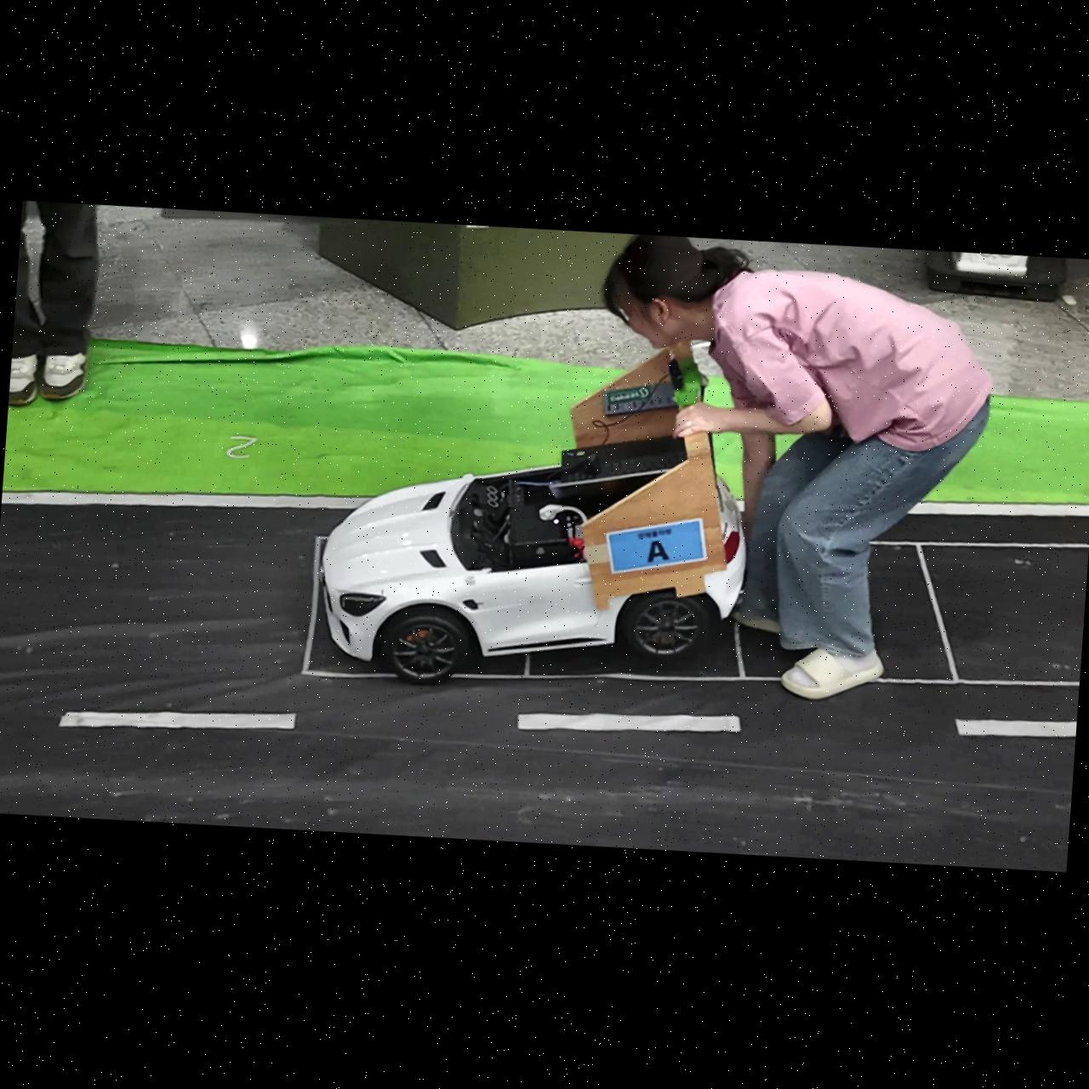broken_line: (517, 713, 741, 733), (59, 712, 296, 729), (956, 719, 1076, 737)
